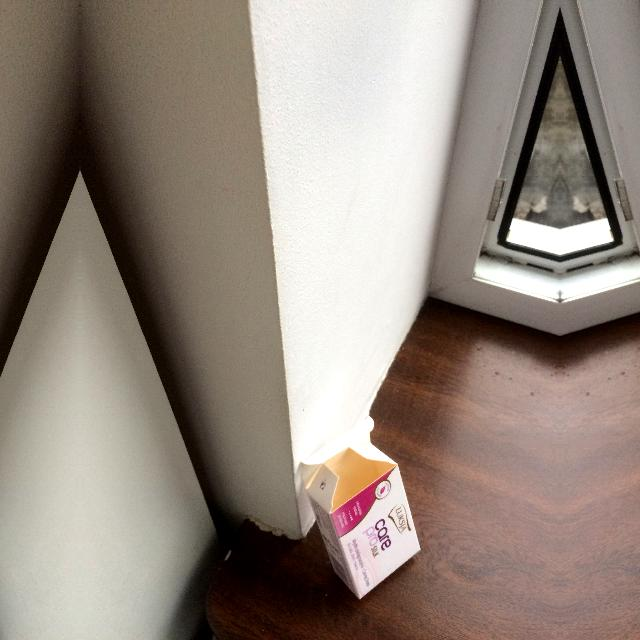Paper: (291, 410, 431, 612)
